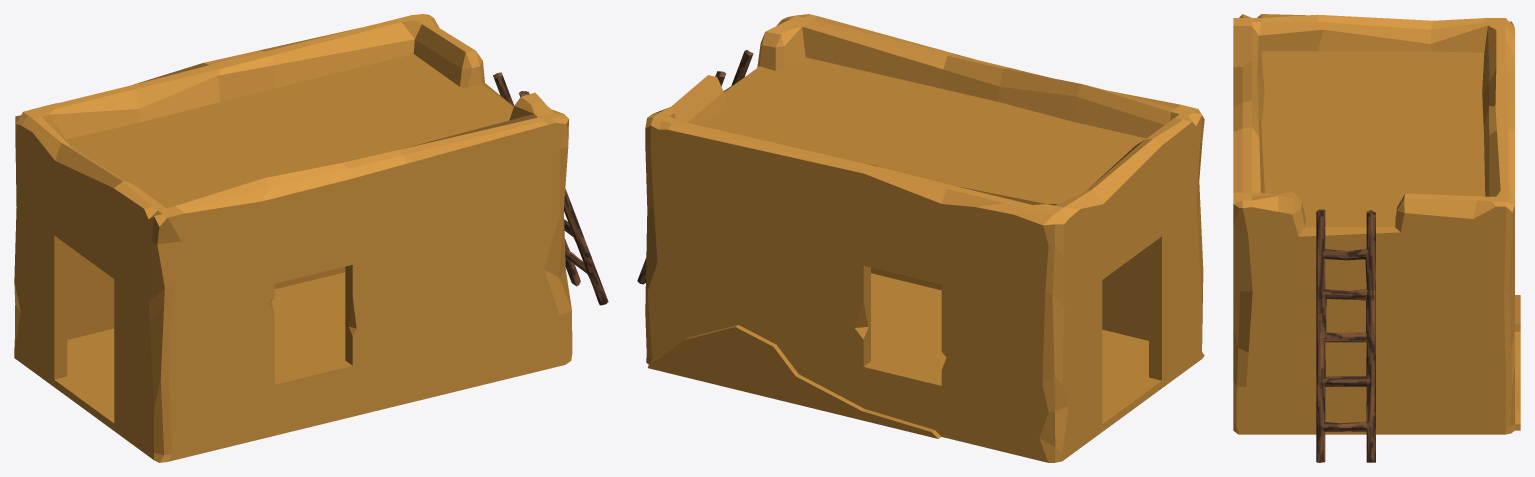
Rendered from Building_M5.fbx.
3 views of the same model, side by side, from view 1: azimuth 30°, elevation 25°; view 2: azimuth 150°, elevation 25°; view 3: azimuth 270°, elevation 25° (orthographic). The views are drawn at different scales.
Visible parts, largest first — view 1: Building 3; view 2: Building 3; view 3: Building 3.
Boxes of the visible parts, x1=… form: Building 3: x1=14, y1=14, x2=608, y2=462; Building 3: x1=637, y1=14, x2=1204, y2=462; Building 3: x1=1233, y1=14, x2=1520, y2=462.
Size of the model in its own units: 191 by 92.31 by 102.
